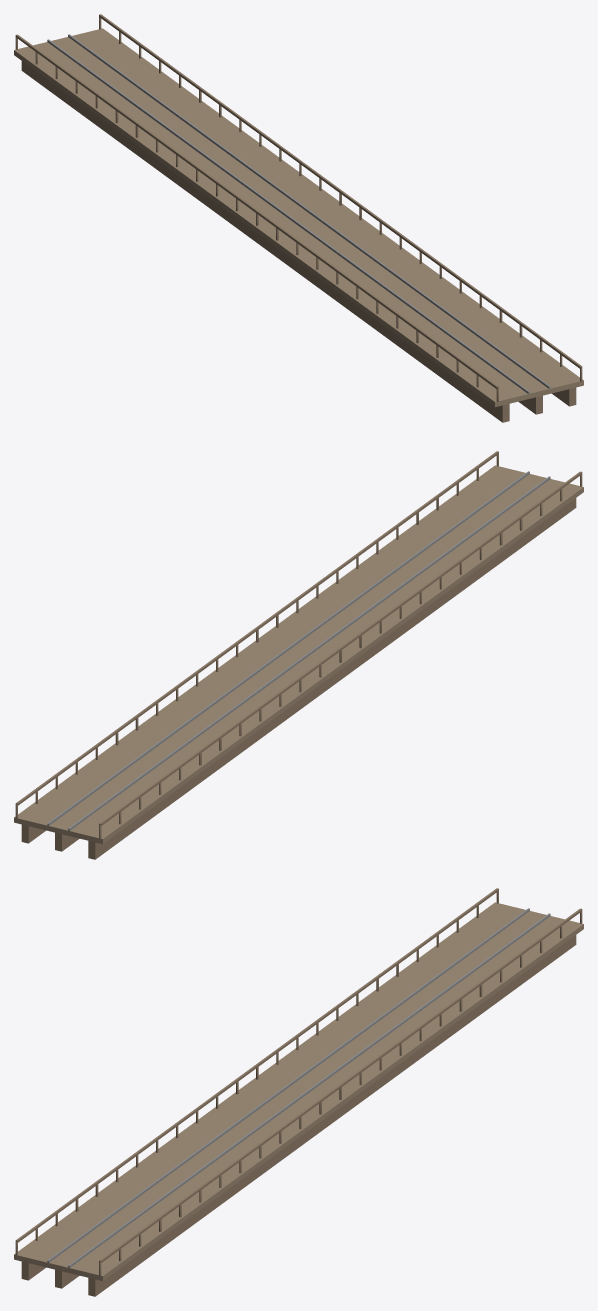
Rendered from span.glb.
3 renders of one model, top to bottom at view 1: azimuth 30°, elevation 25°; view 2: azimuth 150°, elevation 25°; view 3: azimuth 330°, elevation 25°, orthographic.
Parts seen in each view (by area): view 1: span; view 2: span; view 3: span.
Boxes of the visible parts, left/top/right/bottom form: span: left=14, top=14, right=583, bottom=422; span: left=14, top=451, right=583, bottom=859; span: left=14, top=888, right=583, bottom=1296.
Size of the model in its own units: 6.4 by 2.56 by 60.14.
